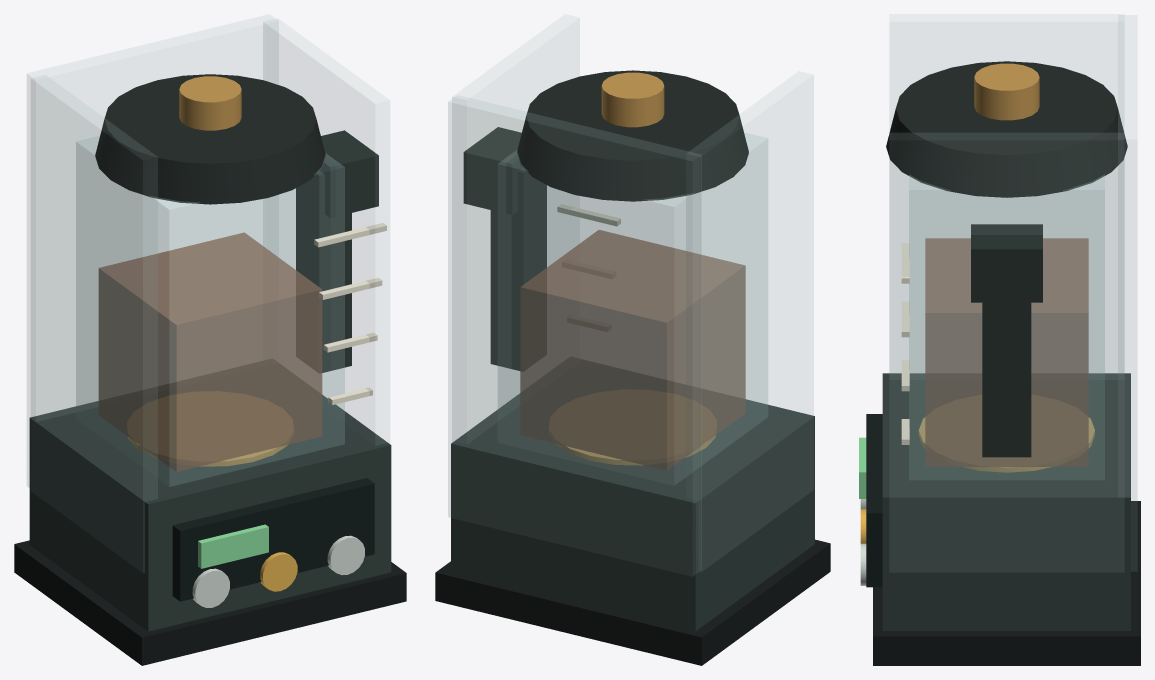
The model's file is blender.glb.
3 renders of one model, left to right at view 1: azimuth 30°, elevation 25°; view 2: azimuth 150°, elevation 25°; view 3: azimuth 270°, elevation 25°, orthographic. The views are drawn at different scales.
Visible parts, largest first — view 1: AcousticHoodSide (×2), GraduatedBlenderJar, CommercialMotorBase, BlendContents, AcousticHoodBack, SealedLid, RubberFootPlate, DigitalControlPanel, FourPointBlade, JarHandle, HandleGrip, LidCap (+4 smaller); view 2: AcousticHoodBack, GraduatedBlenderJar, CommercialMotorBase, AcousticHoodSide (×2), BlendContents, SealedLid, RubberFootPlate, JarHandle, HandleGrip, LidCap, FourPointBlade, VolumeMark; view 3: AcousticHoodSide (×2), CommercialMotorBase, GraduatedBlenderJar, BlendContents, SealedLid, RubberFootPlate, AcousticHoodBack, JarHandle, HandleGrip, LidCap, DigitalControlPanel, FourPointBlade (+1 smaller).
Part boxes in pixels (x1,y1,x2,y2): AcousticHoodSide (×2): (31,19,389,572); GraduatedBlenderJar: (76,136,344,486); CommercialMotorBase: (29,366,391,631); BlendContents: (98,232,322,471); AcousticHoodBack: (27,14,278,486); SealedLid: (95,74,325,204); RubberFootPlate: (14,540,406,665); DigitalControlPanel: (172,478,374,601); FourPointBlade: (128,391,293,466); JarHandle: (296,171,351,372); HandleGrip: (320,130,378,217); LidCap: (179,76,241,130); AcousticHoodBack: (448,95,701,576); GraduatedBlenderJar: (498,132,767,485); CommercialMotorBase: (451,393,814,631); AcousticHoodSide (×2): (452,14,813,571); BlendContents: (520,230,745,470); SealedLid: (517,70,748,201); RubberFootPlate: (435,539,830,665); JarHandle: (490,168,546,370); HandleGrip: (463,127,522,214); LidCap: (601,72,664,127); FourPointBlade: (555,435,715,465); VolumeMark: (557,204,620,226); AcousticHoodSide (×2): (890,14,1123,571); CommercialMotorBase: (882,373,1130,630); GraduatedBlenderJar: (909,175,1104,479); BlendContents: (925,238,1088,466); SealedLid: (886,61,1127,197); RubberFootPlate: (873,501,1140,665); AcousticHoodBack: (1118,15,1136,570); JarHandle: (982,302,1031,457); HandleGrip: (971,224,1042,302); LidCap: (974,63,1039,120); DigitalControlPanel: (866,414,882,587); FourPointBlade: (918,417,1094,472).
Size of the model in its own units: 1.05 by 1.76 by 0.8625.
